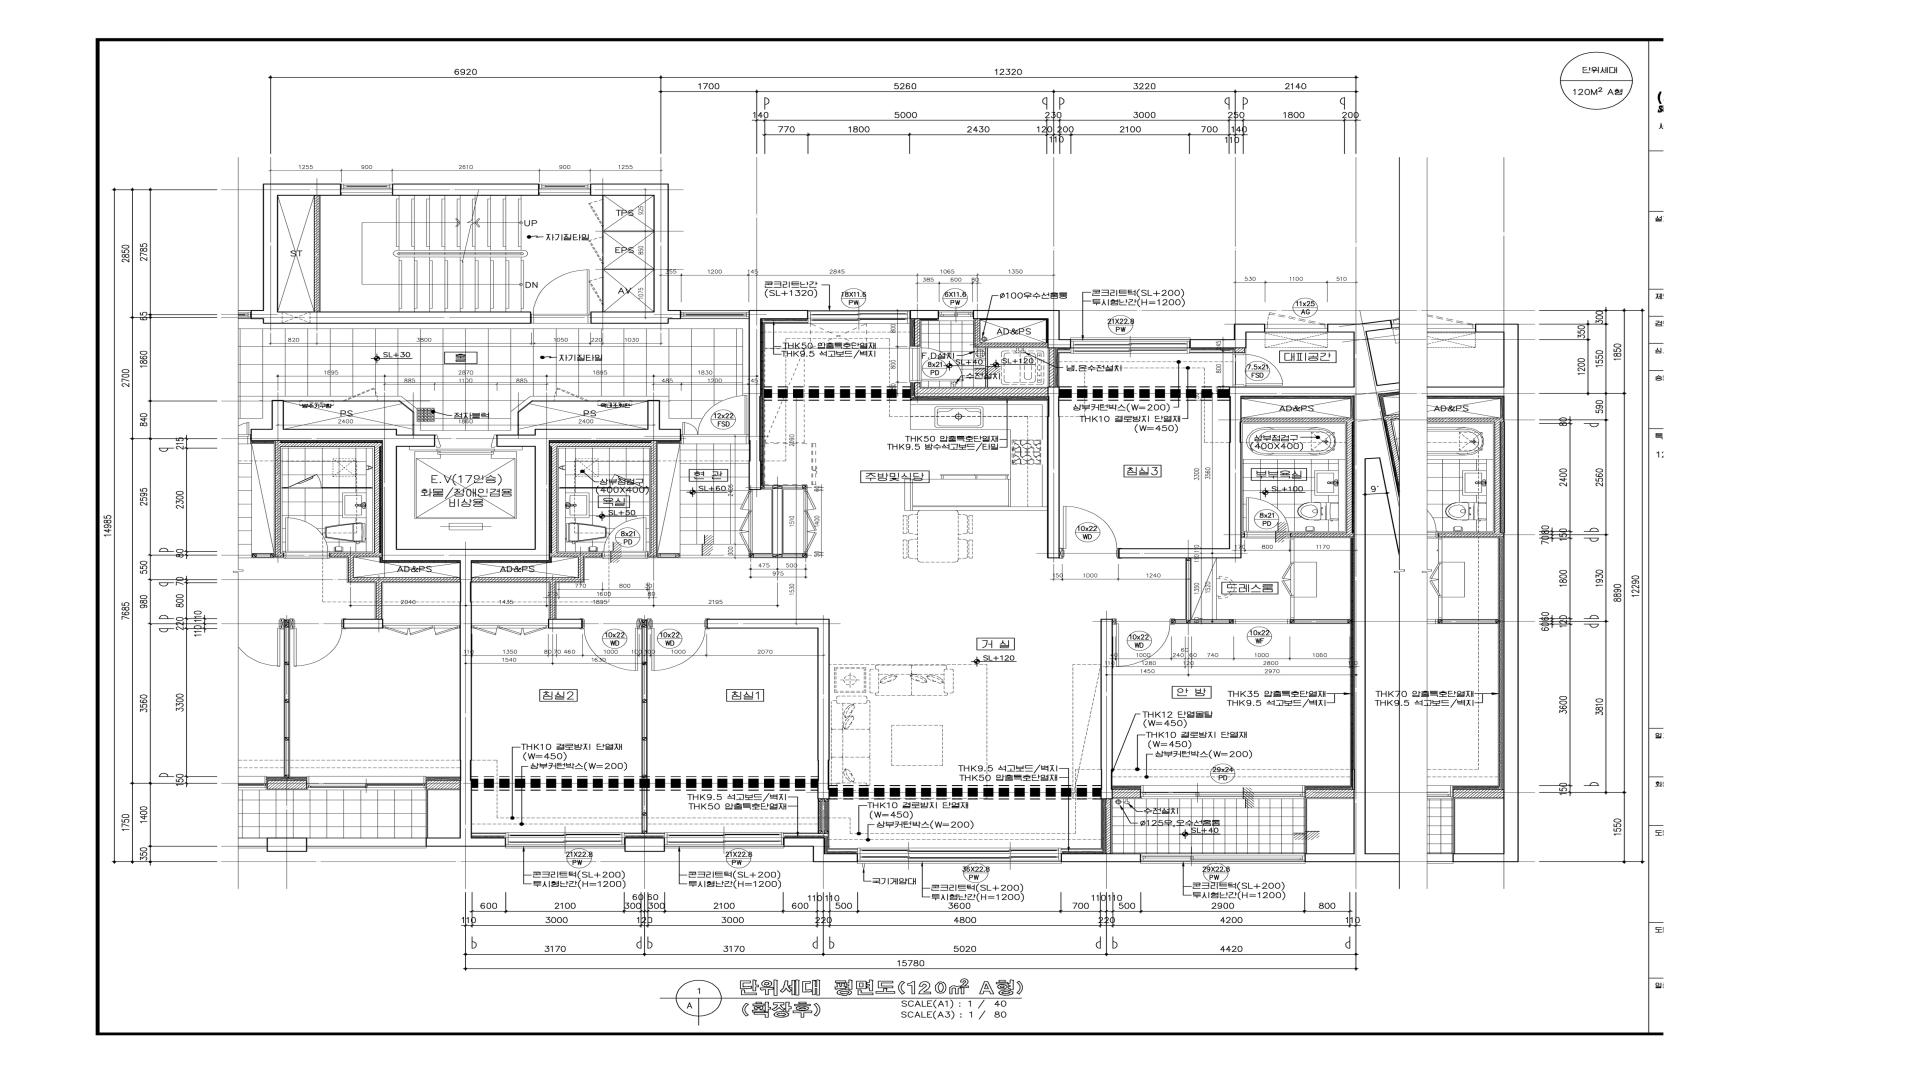door: (680, 394, 749, 444), (530, 269, 591, 324), (583, 618, 644, 674), (647, 618, 707, 674), (1060, 506, 1118, 559), (1112, 618, 1171, 667), (1232, 351, 1287, 386), (601, 517, 647, 558), (1245, 497, 1291, 538), (910, 347, 963, 382)
wall: (251, 400, 682, 847), (1118, 323, 1366, 862), (472, 440, 680, 629), (262, 183, 531, 323), (914, 348, 1060, 558), (707, 618, 829, 799), (1242, 418, 1354, 538), (591, 183, 680, 324), (749, 310, 808, 491), (1101, 618, 1141, 853), (749, 485, 808, 558), (1171, 558, 1234, 624), (973, 310, 1071, 348), (973, 319, 1047, 348), (1189, 323, 1265, 348), (783, 837, 858, 862), (392, 183, 539, 195), (642, 620, 649, 833), (314, 196, 320, 311), (1062, 853, 1141, 862), (624, 837, 665, 852), (1305, 789, 1353, 798), (1290, 618, 1352, 624), (910, 310, 939, 320), (914, 320, 920, 347), (1233, 348, 1246, 351), (1241, 531, 1245, 538)
window: (857, 848, 1062, 864), (1141, 785, 1305, 798), (665, 832, 783, 848), (506, 832, 625, 848), (1141, 853, 1305, 864), (808, 310, 910, 323), (1071, 338, 1191, 348), (342, 183, 392, 196), (680, 310, 749, 319), (539, 183, 591, 195), (1265, 323, 1328, 332), (939, 310, 973, 320)
